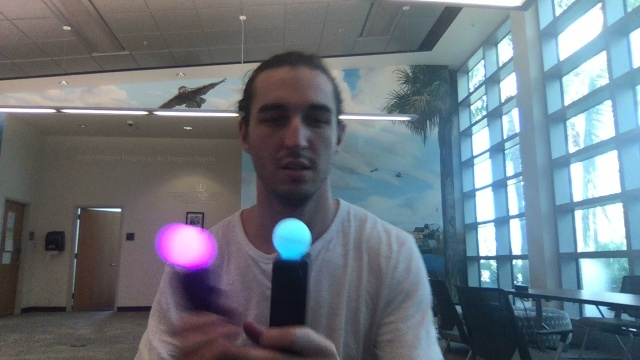wand: (160, 223, 215, 269), (273, 218, 312, 261)
